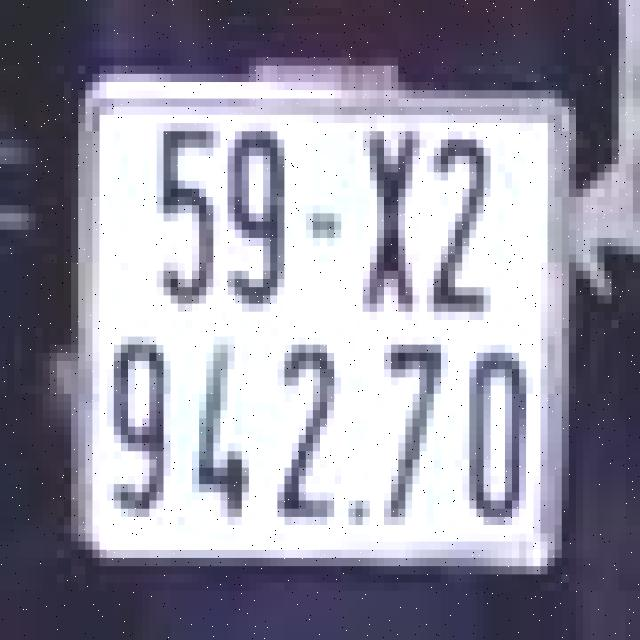0: (459, 341, 537, 521)
2: (431, 131, 502, 328), (278, 337, 342, 525)
4: (196, 332, 260, 530)
5: (146, 115, 224, 320)
7: (373, 332, 459, 546)
9: (96, 332, 174, 521), (224, 127, 302, 308)
X: (356, 119, 426, 324)
